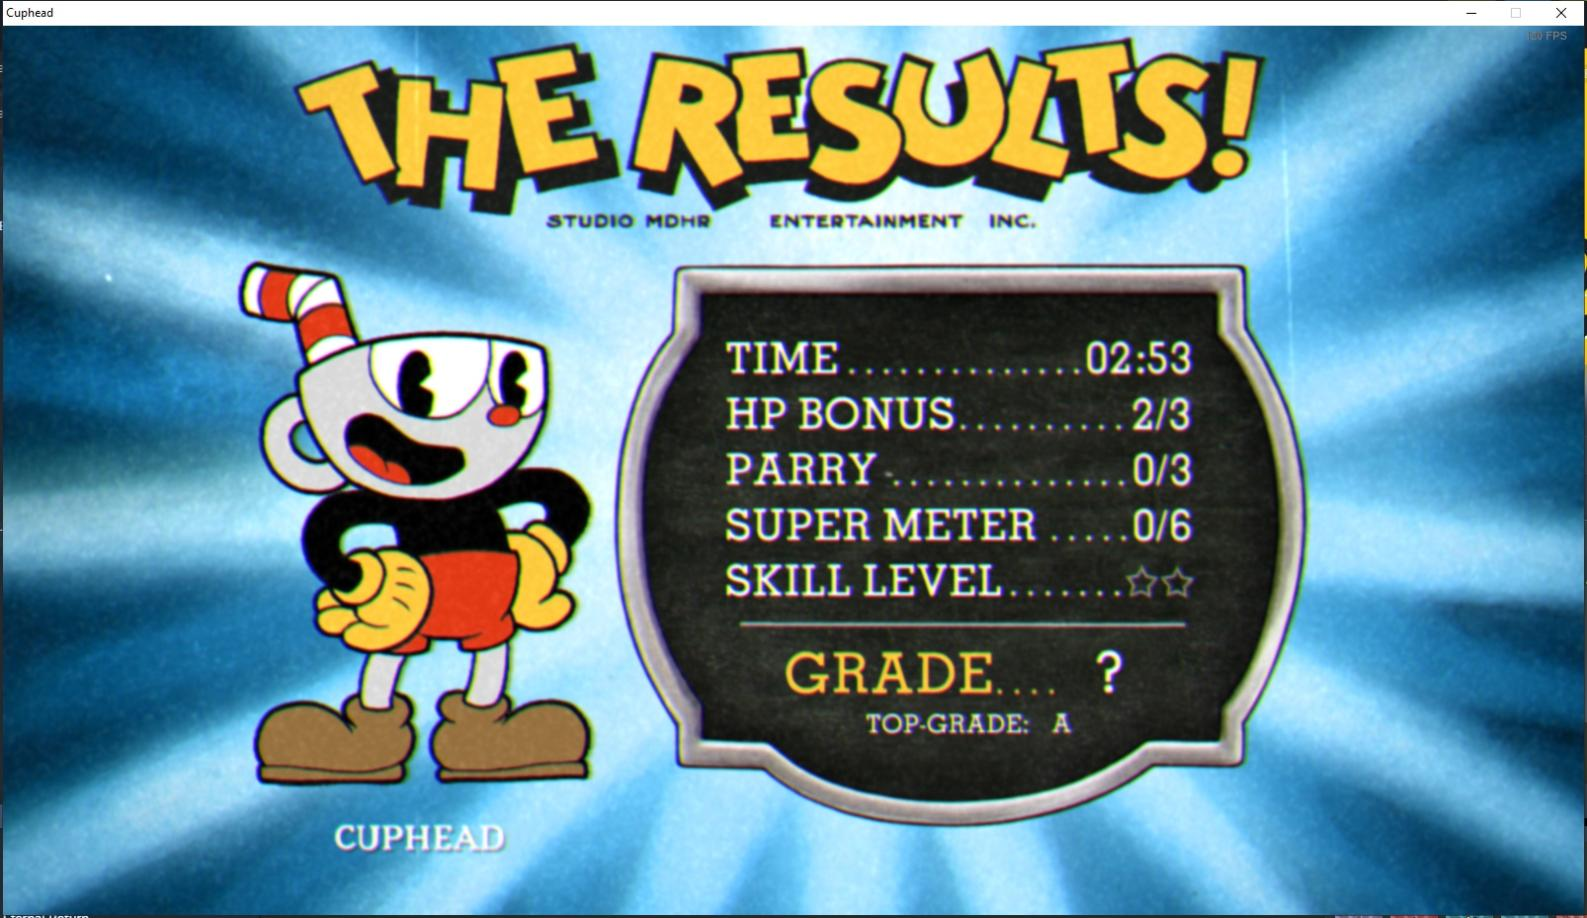win_results: (256, 33, 1283, 233)
